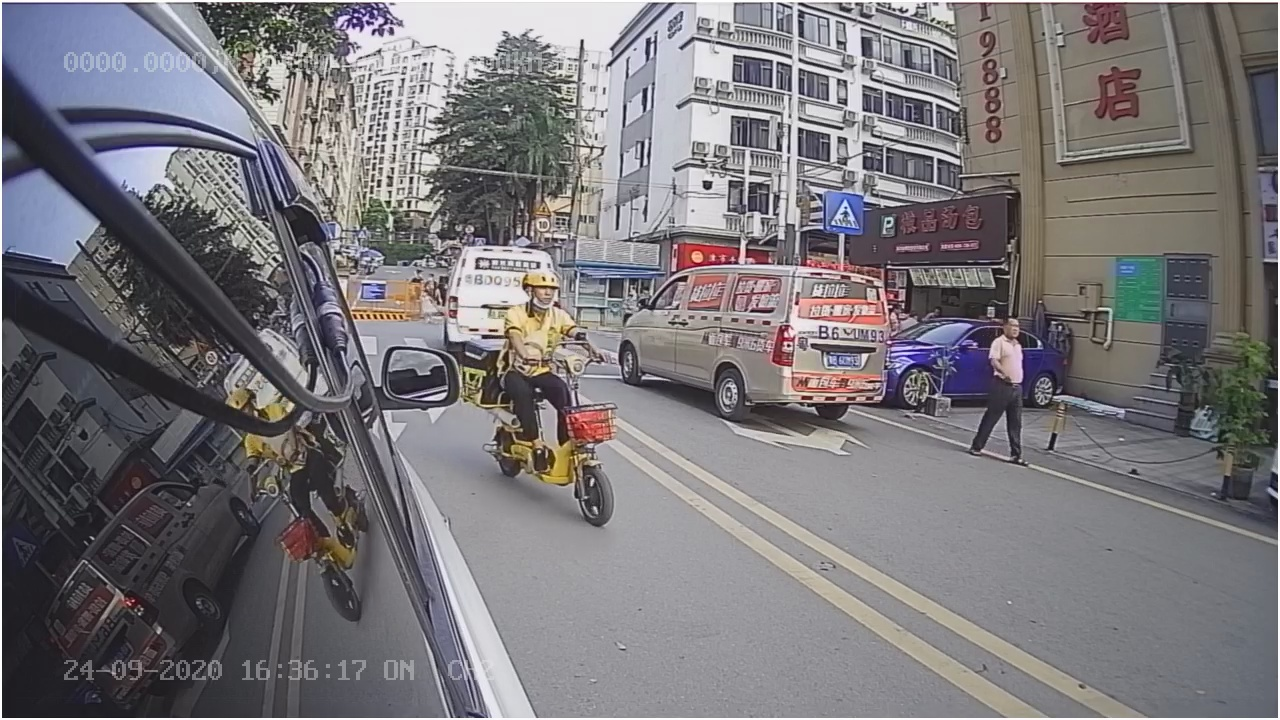person: (950, 307, 1044, 477)
